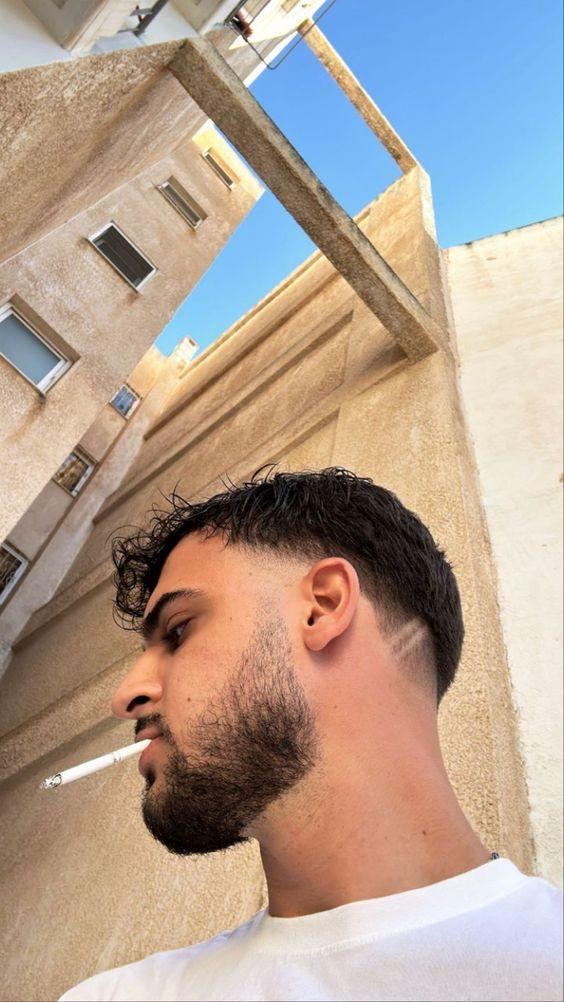cigarette: (38, 739, 153, 790)
